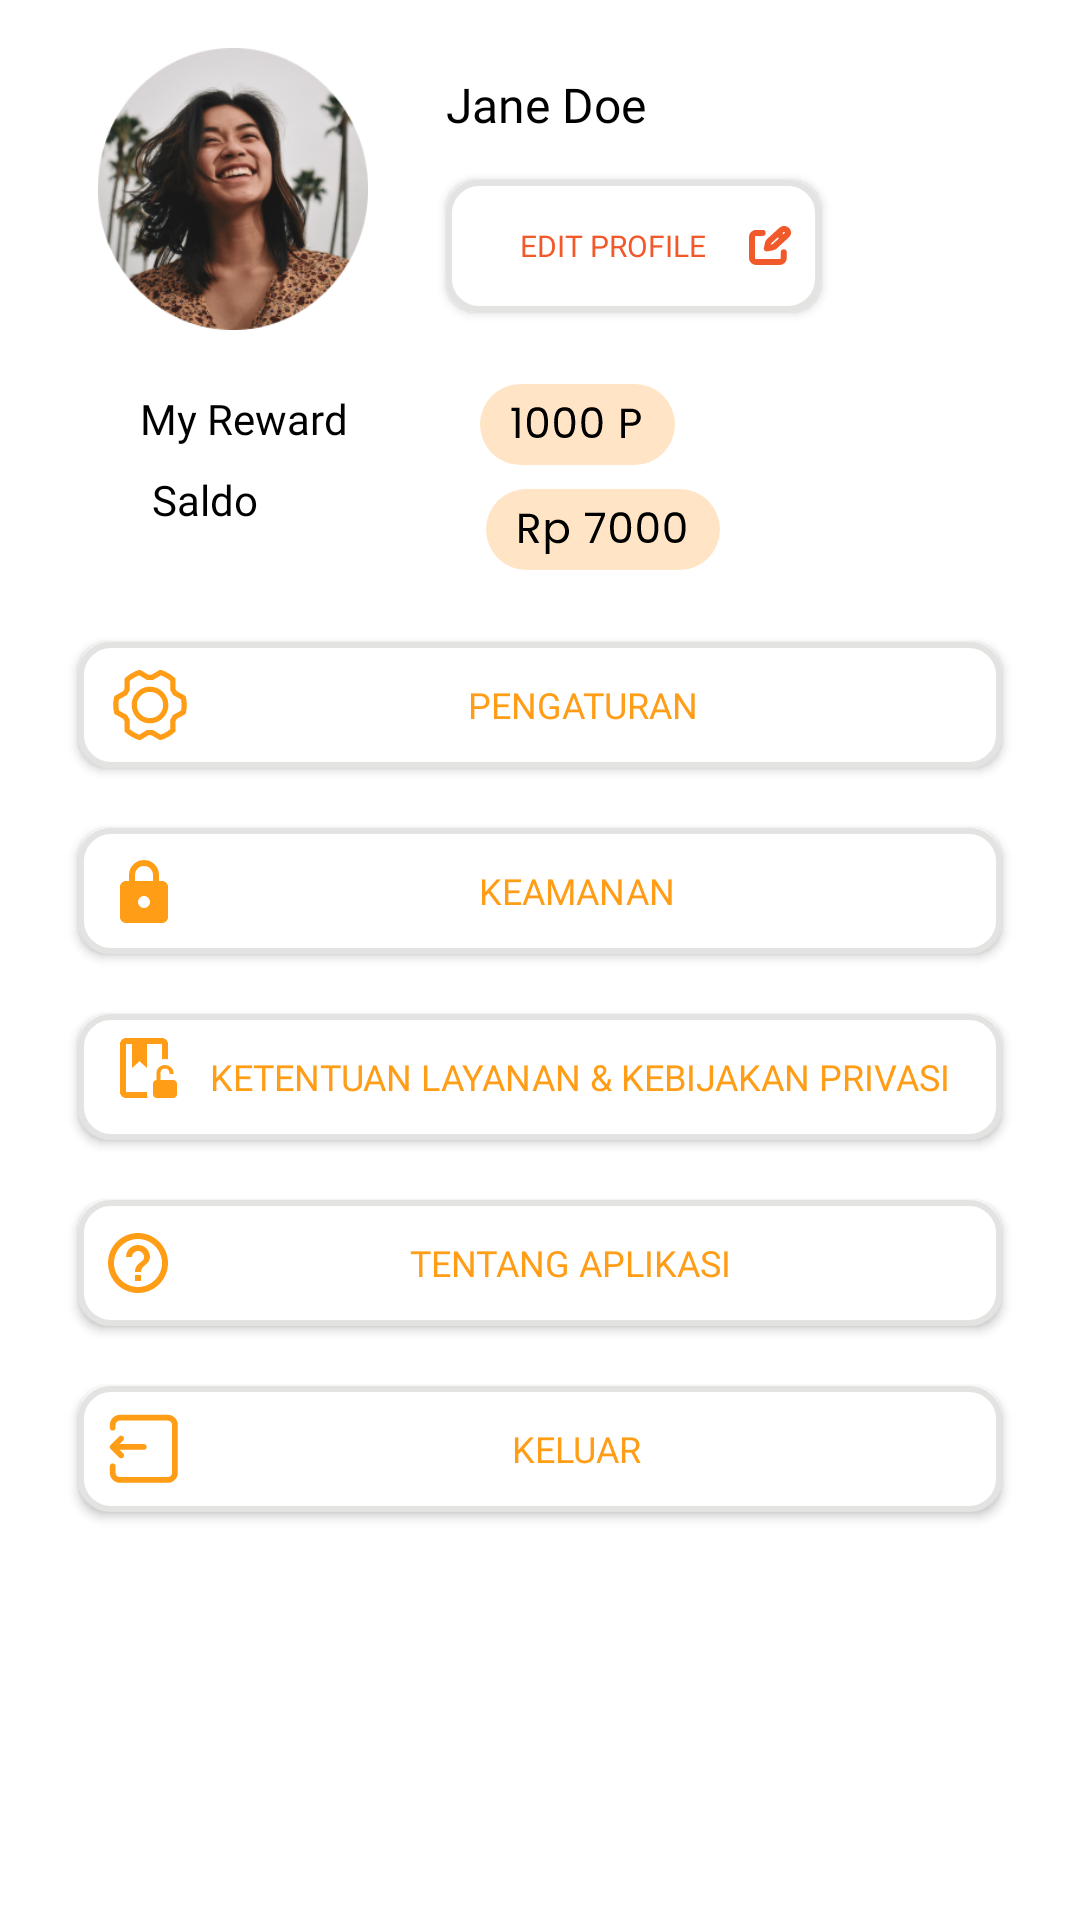

Point at icon controls on the screen. Image size 1080x1920, points as (x=x, y=y).
profilpicimg: (x=233, y=189)
